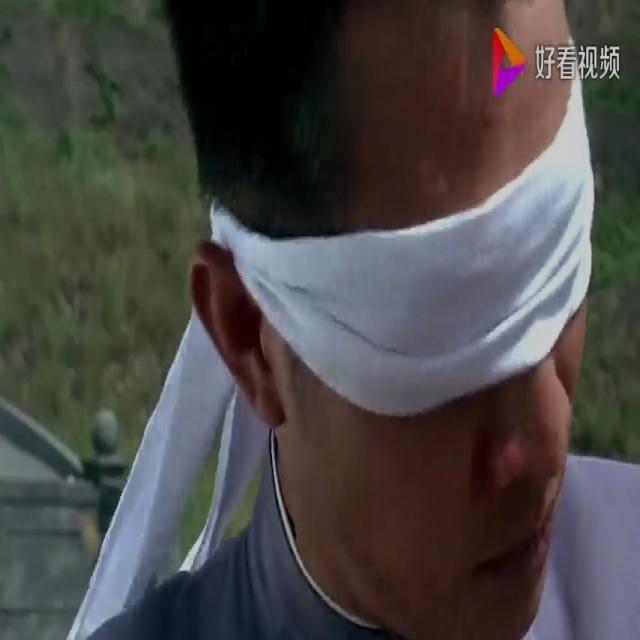fight: (18, 0, 638, 639)
